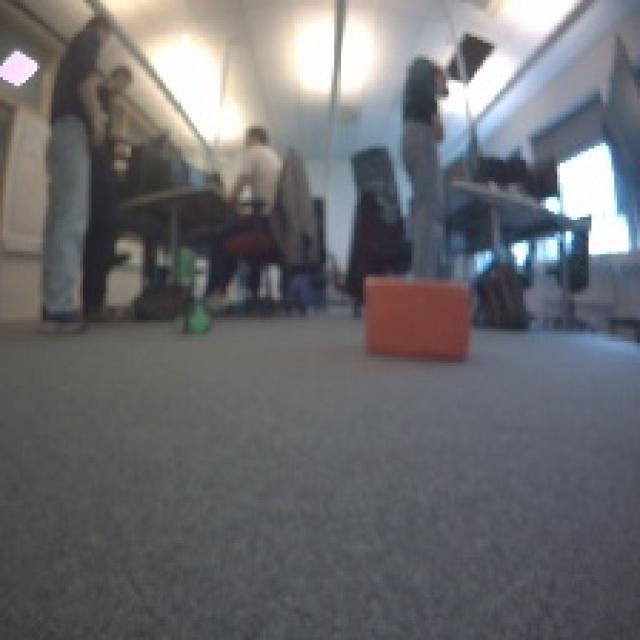robot: (163, 296, 217, 340)
target: (360, 271, 471, 360)
